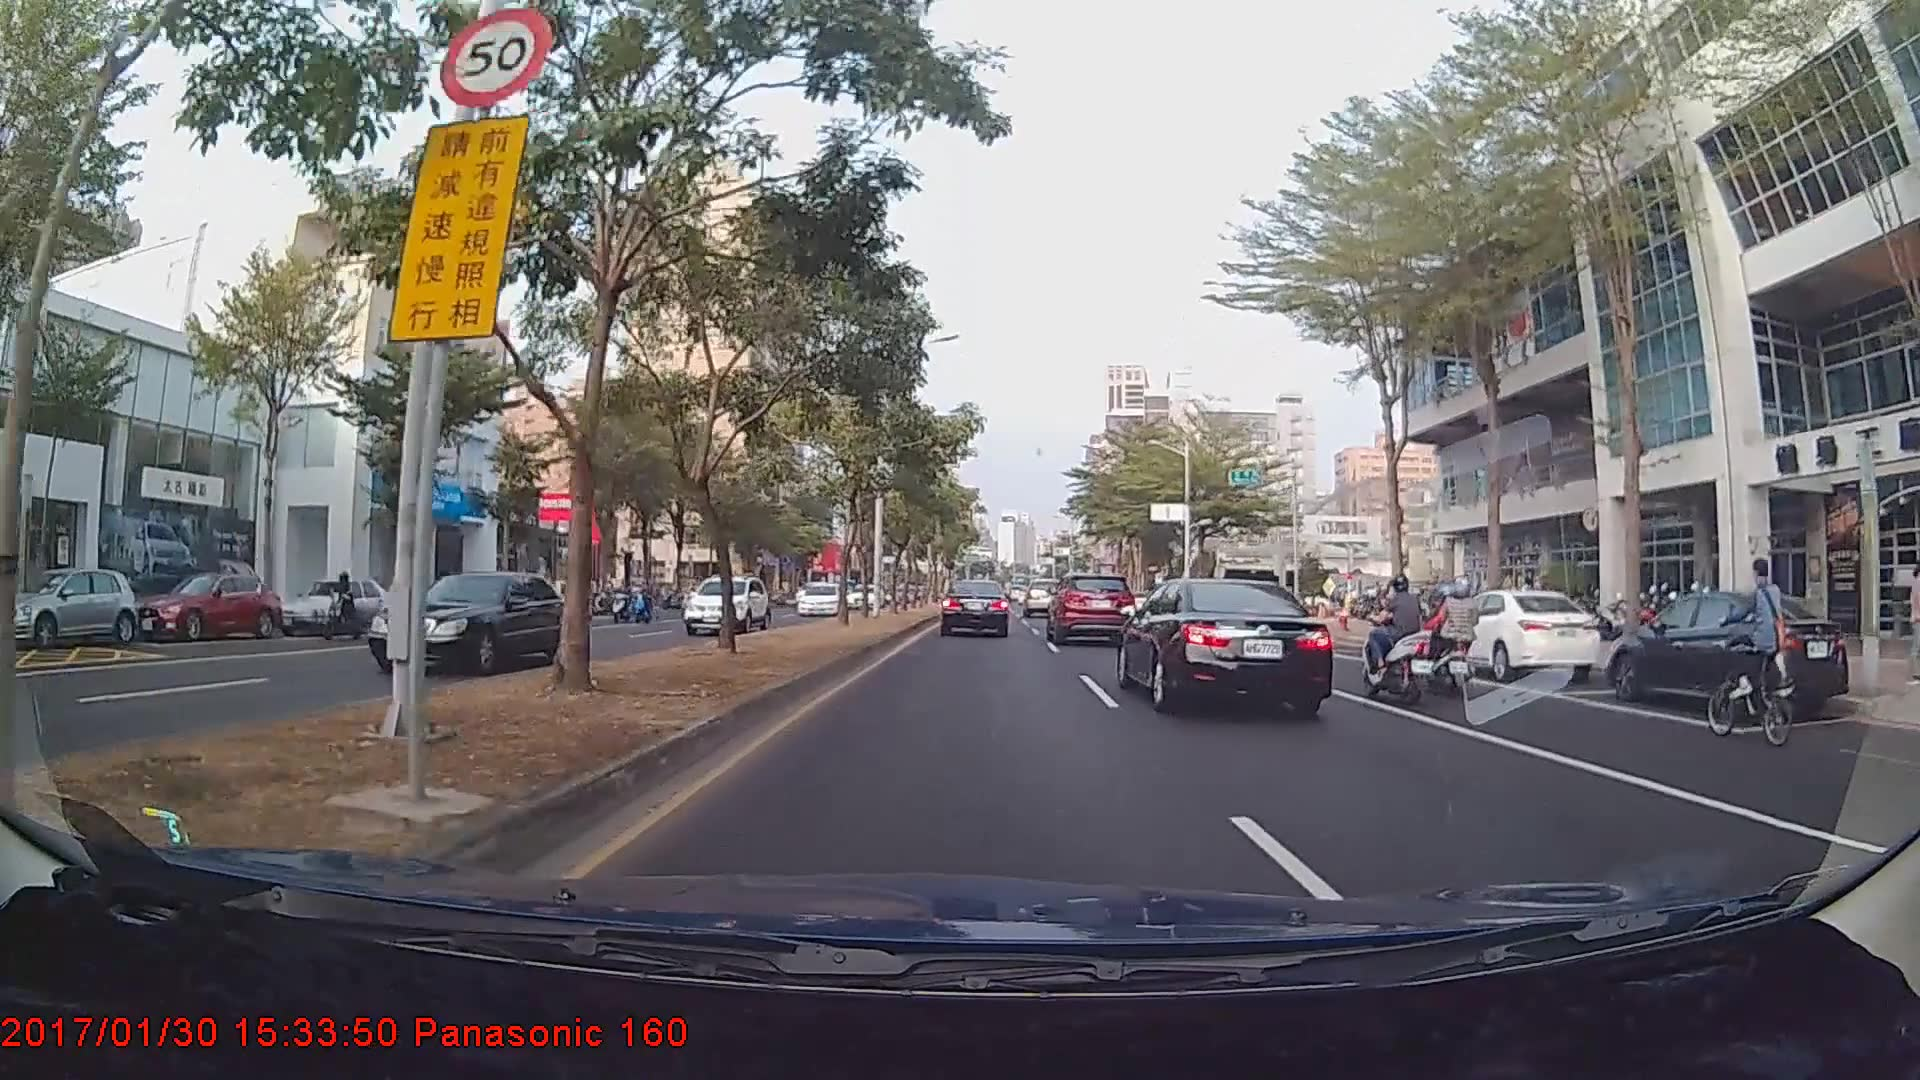rider: (1694, 566, 1818, 757), (1362, 572, 1449, 713), (1424, 578, 1487, 693), (315, 572, 370, 642)
vehicle: (1612, 586, 1851, 725), (1122, 569, 1331, 718), (364, 567, 581, 678), (1441, 586, 1597, 681), (125, 571, 282, 643), (0, 568, 138, 646), (278, 575, 402, 635), (1046, 572, 1133, 645), (681, 574, 772, 637), (941, 578, 1010, 637), (794, 578, 842, 617), (1024, 579, 1055, 616)
